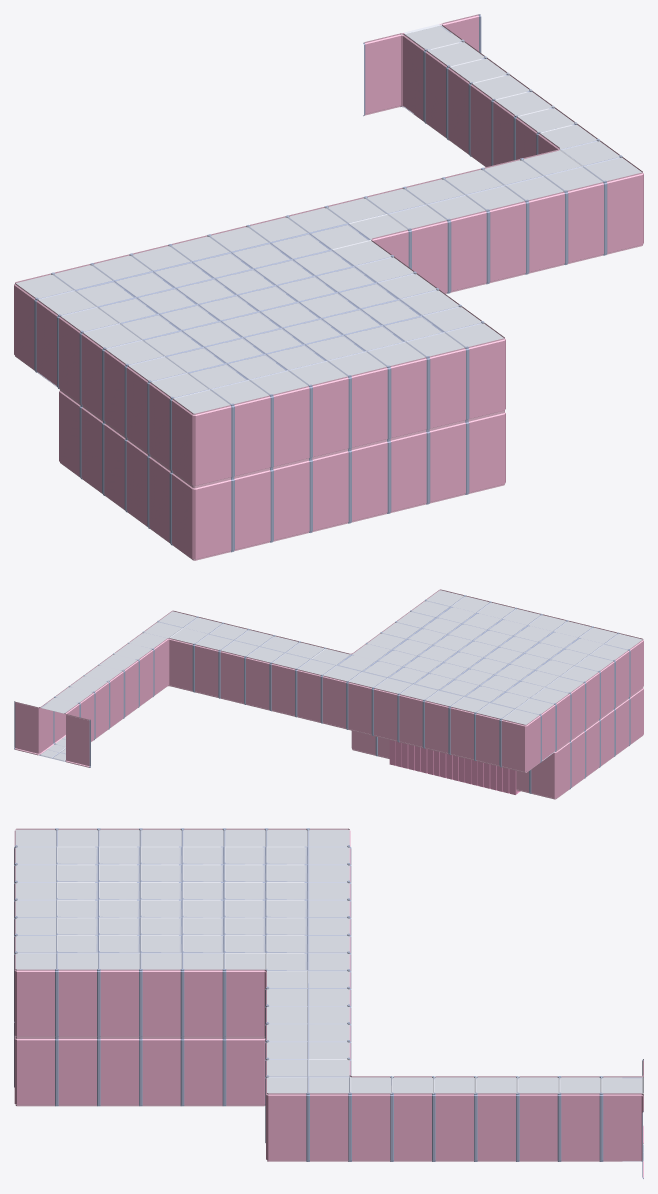
Rendered from Room1.fbx.
3 renders of one model, top to bottom at view 1: azimuth 30°, elevation 25°; view 2: azimuth 150°, elevation 25°; view 3: azimuth 270°, elevation 25°, orthographic. The views are drawn at different scales.
Parts seen in each view (by area): view 1: polySurface108; view 2: polySurface108; view 3: polySurface108.
Part boxes in pixels (x1,y1,x2,y2): polySurface108: (14, 14, 643, 560); polySurface108: (14, 589, 643, 799); polySurface108: (14, 828, 643, 1178).
Size of the model in its own units: 3205 by 752 by 3008.
Materials: 12 (12 with a texture image).
